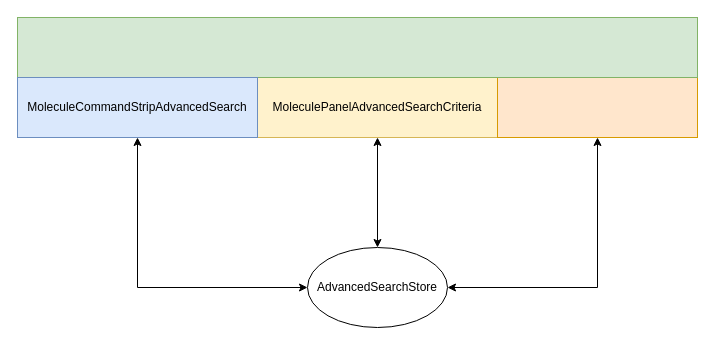
Some shapes in this 715 by 345 pixel diagram are drawn without their labels. Each missing label, with the box of its shape:
AdvancedSearchPage: (16, 16, 698, 78)
OrganismTableAdvancedSearch: (496, 76, 698, 138)
